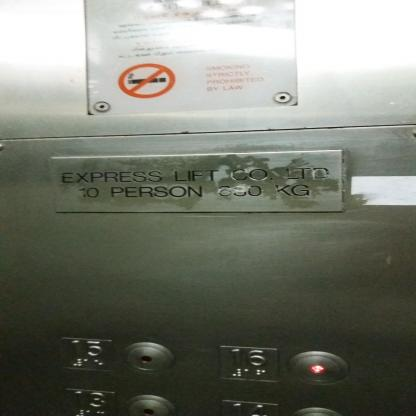13: (63, 388, 118, 416)
15: (59, 336, 115, 371)
16: (218, 344, 280, 382)
empty: (286, 351, 350, 386), (121, 341, 176, 376), (125, 394, 174, 416)
